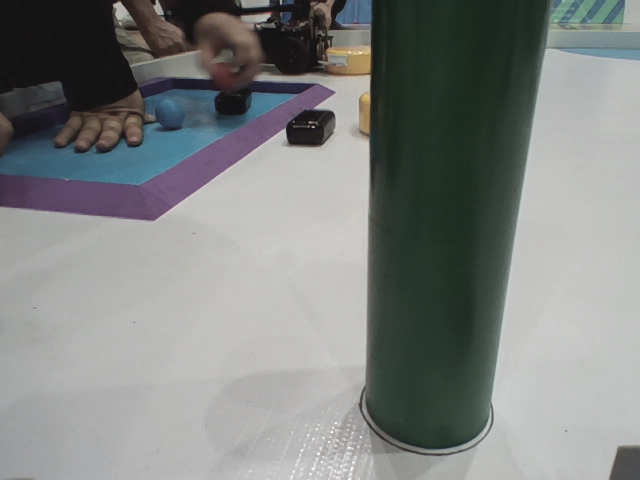black: (285, 107, 337, 153), (211, 85, 258, 117)
blue: (156, 98, 197, 132)
kuang: (1, 72, 343, 236)
yellow: (352, 83, 396, 138), (318, 39, 379, 75)
zhuzi: (361, 1, 552, 448)
